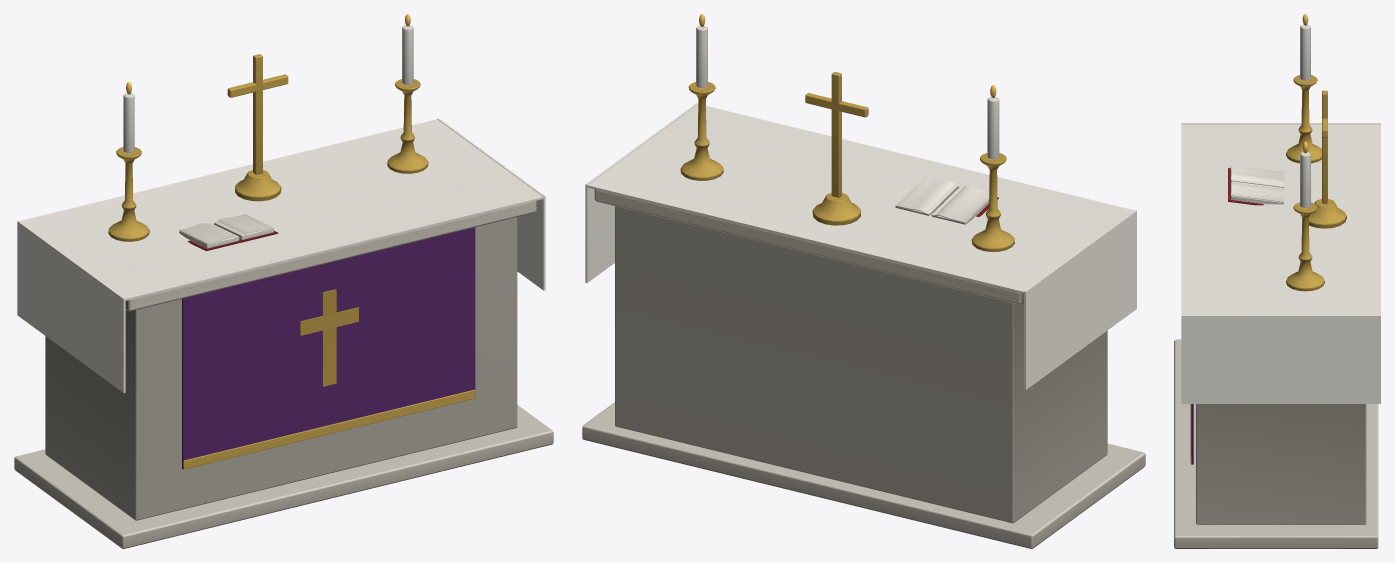
File: altar.glb
The picture shows the model from 3 angles, left to right: view 1: azimuth 30°, elevation 25°; view 2: azimuth 150°, elevation 25°; view 3: azimuth 270°, elevation 25°; orthographic projection. The views are drawn at different scales.
Visible parts, largest first — view 1: altar; view 2: altar; view 3: altar.
Part boxes in pixels (x1,y1,x2,y2): altar: (14, 14, 553, 548); altar: (582, 14, 1145, 548); altar: (1174, 14, 1380, 548).
Bounding box in the file's own units: 1.92 × 1.69 × 0.85.
